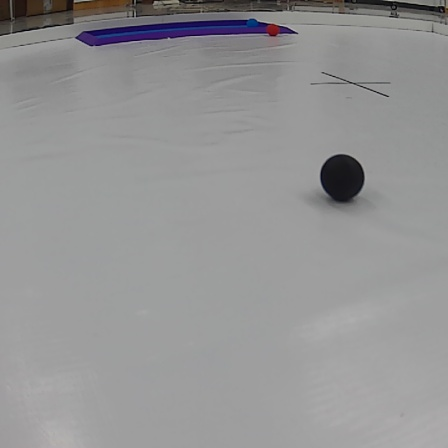black: (315, 151, 370, 203)
blue: (246, 18, 258, 29)
blue_aim: (74, 17, 293, 46)
red: (265, 23, 281, 37)
